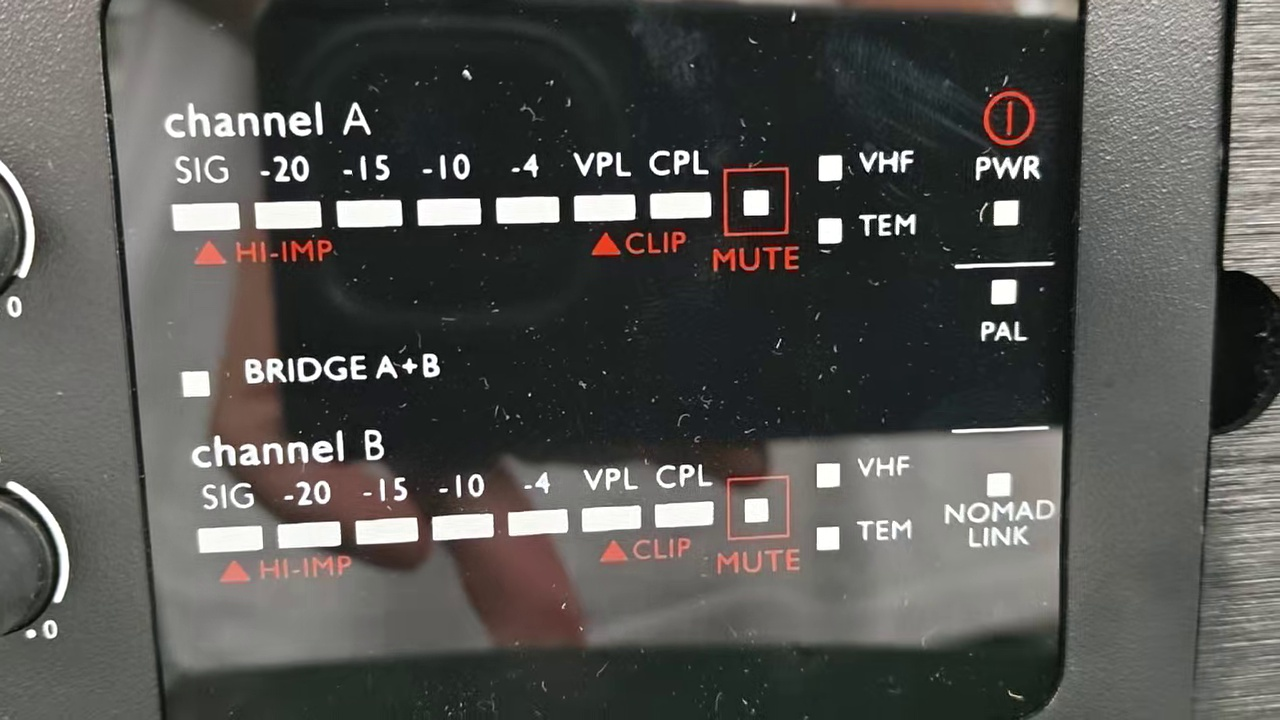FP_CPL: (644, 455, 717, 543), (642, 145, 715, 232)
FP_PWR: (955, 152, 1058, 237)
FP_PWR_area: (955, 87, 1057, 262)
FP_SIG_area: (186, 424, 935, 592), (158, 142, 931, 280)
FP_VPL: (565, 145, 642, 232), (580, 454, 646, 542)
